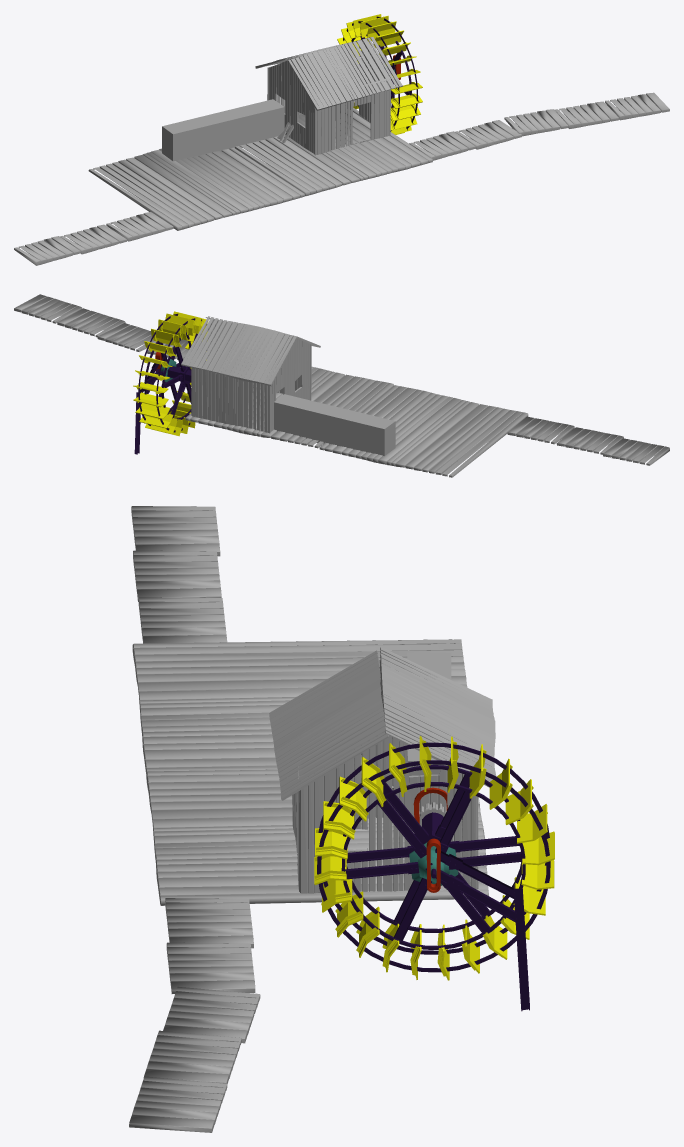
File: watermillplaceholder.fbx
3 renders of one model, top to bottom at view 1: azimuth 30°, elevation 25°; view 2: azimuth 150°, elevation 25°; view 3: azimuth 270°, elevation 25°, orthographic. The views are drawn at different scales.
Visible parts, largest first — view 1: polySurface12, polySurface7 (×2), polySurface1 (×2), pCube4, watermill1:Watermill, pasted__pasted__polySurface14 (×4), pasted__polySurface14 (×2), polySurface9 (×2), polySurface8 (×2), polySurface14, pasted__pasted__pasted__polySurface14; view 2: polySurface12, polySurface7 (×2), watermill1:Watermill, pCube4, polySurface1 (×2), pasted__polySurface14 (×2), pasted__pasted__polySurface14 (×2), polySurface9 (×2), polySurface8 (×2), polySurface14, pasted__pasted__pasted__polySurface14, watermill1:Watermill_rail2; view 3: watermill1:Watermill, polySurface12, polySurface7 (×2), polySurface1 (×2), pasted__pasted__polySurface14 (×4), pasted__polySurface14 (×2), polySurface9 (×2), polySurface8 (×2), watermill1:Watermill_rail2, pasted__pasted__pasted__polySurface14, polySurface14, polySurface10 (+2 smaller).
Boxes of the visible parts, x1,y1,x2,y2 form: polySurface12: (255, 37, 402, 155); polySurface7 (×2): (134, 109, 428, 217); polySurface1 (×2): (88, 139, 334, 230); pCube4: (162, 99, 284, 161); watermill1:Watermill: (337, 14, 422, 134); pasted__pasted__polySurface14 (×4): (409, 104, 601, 160); pasted__polySurface14 (×2): (14, 229, 111, 265); polySurface9 (×2): (126, 136, 350, 219); polySurface8 (×2): (118, 137, 342, 222); polySurface14: (106, 216, 158, 241); pasted__pasted__pasted__polySurface14: (605, 95, 652, 120); polySurface12: (181, 316, 320, 433); polySurface7 (×2): (190, 366, 479, 467); watermill1:Watermill: (133, 311, 208, 436); pCube4: (274, 394, 395, 455); polySurface1 (×2): (288, 377, 528, 477); pasted__polySurface14 (×2): (573, 430, 669, 465); pasted__pasted__polySurface14 (×2): (72, 313, 156, 351); polySurface9 (×2): (271, 374, 488, 469); polySurface8 (×2): (279, 376, 496, 470); polySurface14: (524, 419, 574, 444); pasted__pasted__pasted__polySurface14: (29, 298, 82, 323); watermill1:Watermill_rail2: (134, 359, 159, 454); watermill1:Watermill: (314, 736, 554, 980); polySurface12: (269, 647, 496, 893); polySurface7 (×2): (139, 684, 488, 898); polySurface1 (×2): (132, 639, 464, 806); pasted__pasted__polySurface14 (×4): (149, 898, 260, 1070); pasted__polySurface14 (×2): (131, 506, 219, 585); polySurface9 (×2): (137, 676, 480, 822); polySurface8 (×2): (136, 668, 479, 813); watermill1:Watermill_rail2: (440, 851, 529, 1011); pasted__pasted__pasted__polySurface14: (134, 1076, 227, 1116); polySurface14: (138, 597, 225, 632); polySurface10: (159, 889, 488, 905).
Bounding box in the file's own units: 6174 × 1131 × 1787.
